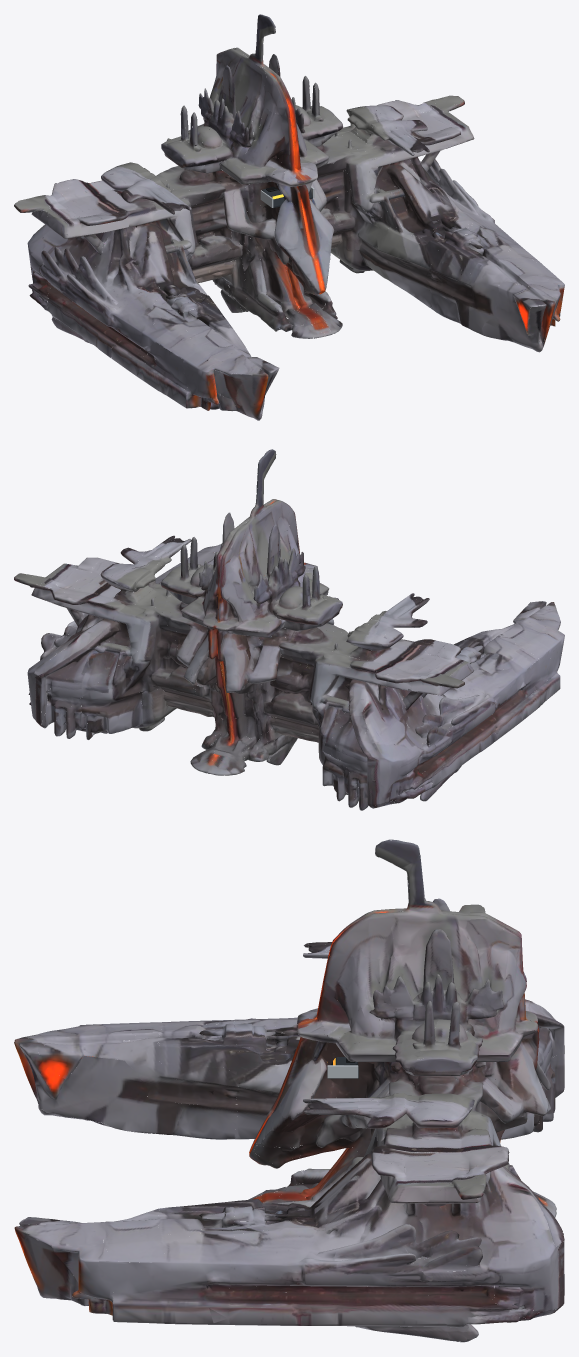
Rendered from helion-ark-v4-approved.glb.
3 views of the same model, one above another, from view 1: azimuth 30°, elevation 25°; view 2: azimuth 150°, elevation 25°; view 3: azimuth 270°, elevation 25° (orthographic). The views are drawn at different scales.
Parts seen in each view (by area): view 1: ark_hull, ark_bridge_shutter_a, ark_turret_left, ark_turret_right, ark_radiator_right, ark_bridge_shutter_b, ark_radiator_left, ark_bay_left_door, ark_bay_right_door; view 2: ark_hull, ark_turret_left, ark_turret_right, ark_radiator_left, ark_bridge_shutter_a; view 3: ark_hull, ark_bridge_shutter_b, ark_turret_right, ark_radiator_left, ark_radiator_right, ark_bay_right_door.
Boxes of the visible parts, bbox=[...] form: ark_hull: bbox=[14, 14, 564, 420]; ark_bridge_shutter_a: bbox=[238, 107, 309, 249]; ark_turret_left: bbox=[69, 163, 171, 225]; ark_turret_right: bbox=[341, 105, 450, 159]; ark_radiator_right: bbox=[415, 223, 515, 276]; ark_bridge_shutter_b: bbox=[290, 113, 334, 244]; ark_radiator_left: bbox=[152, 295, 231, 337]; ark_bay_left_door: bbox=[274, 271, 318, 338]; ark_bay_right_door: bbox=[309, 276, 342, 333]; ark_hull: bbox=[14, 449, 564, 810]; ark_turret_left: bbox=[341, 607, 449, 672]; ark_turret_right: bbox=[68, 547, 171, 605]; ark_radiator_left: bbox=[454, 632, 516, 669]; ark_bridge_shutter_a: bbox=[282, 519, 333, 624]; ark_hull: bbox=[14, 839, 564, 1342]; ark_bridge_shutter_b: bbox=[276, 954, 380, 1125]; ark_turret_right: bbox=[357, 1093, 462, 1168]; ark_radiator_left: bbox=[157, 1020, 277, 1073]; ark_radiator_right: bbox=[157, 1199, 277, 1234]; ark_bay_right_door: bbox=[246, 1145, 304, 1222].
Bounding box in the file's own units: 9.5 × 6.1 × 7.61.
4 materials, 1 textured.
